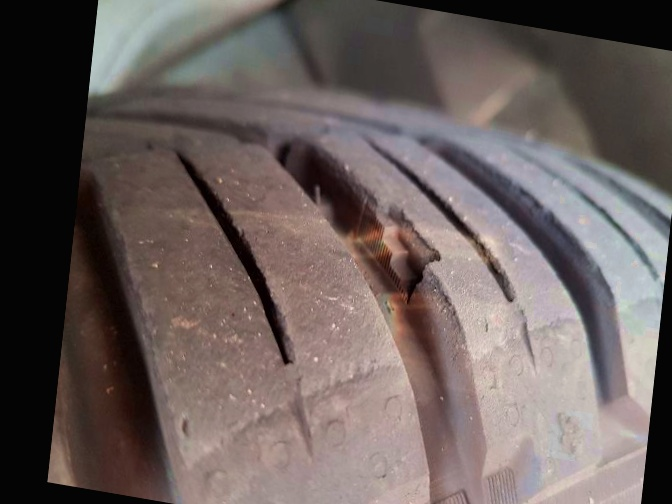temoin:90: (337, 178, 455, 318)
